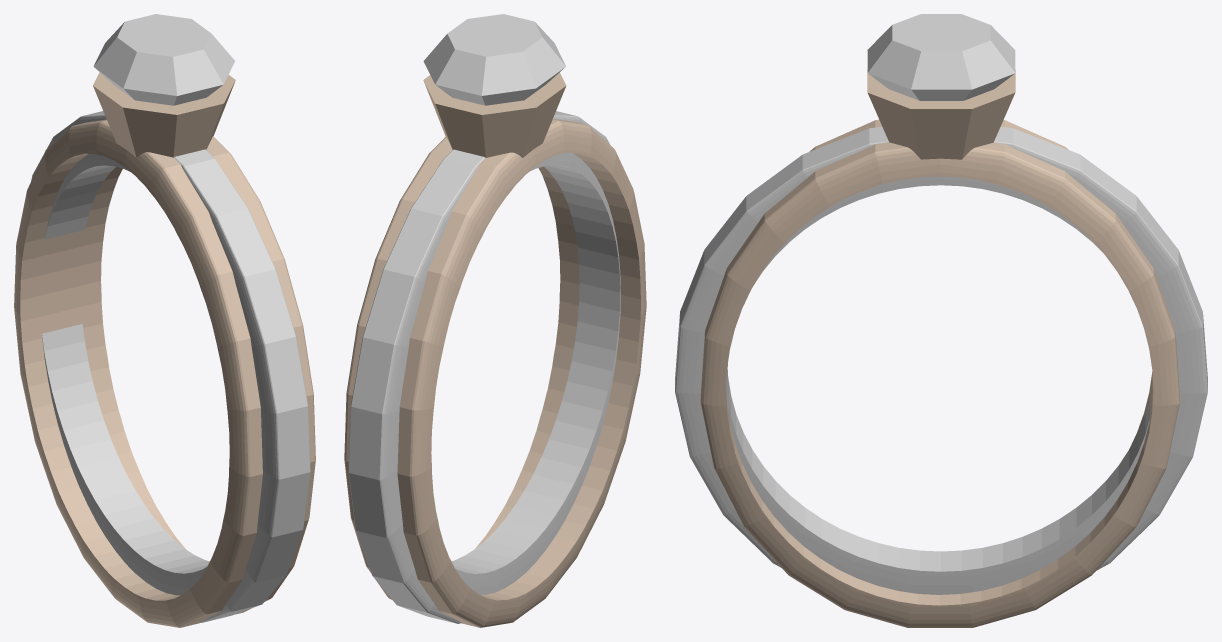
The model's file is Basic Ring.glb.
The picture shows the model from 3 angles, left to right: view 1: azimuth 30°, elevation 25°; view 2: azimuth 150°, elevation 25°; view 3: azimuth 270°, elevation 25°; orthographic projection. The views are drawn at different scales.
Visible parts, largest first — view 1: Mesh_Mesh_head_geo.001_lambert2SG.001; view 2: Mesh_Mesh_head_geo.001_lambert2SG.001; view 3: Mesh_Mesh_head_geo.001_lambert2SG.001.
Boxes of the visible parts, x1,y1,x2,y2 form: Mesh_Mesh_head_geo.001_lambert2SG.001: (14, 14, 315, 627); Mesh_Mesh_head_geo.001_lambert2SG.001: (344, 14, 646, 627); Mesh_Mesh_head_geo.001_lambert2SG.001: (675, 14, 1207, 627).
Size of the model in its own units: 5 by 24 by 20.
